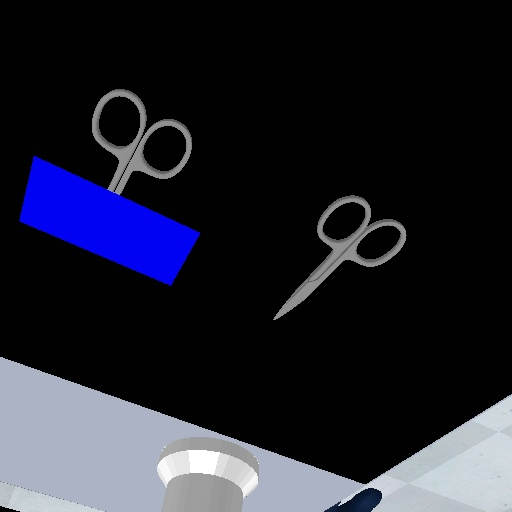tijera: (268, 190, 410, 324), (84, 85, 198, 197)
